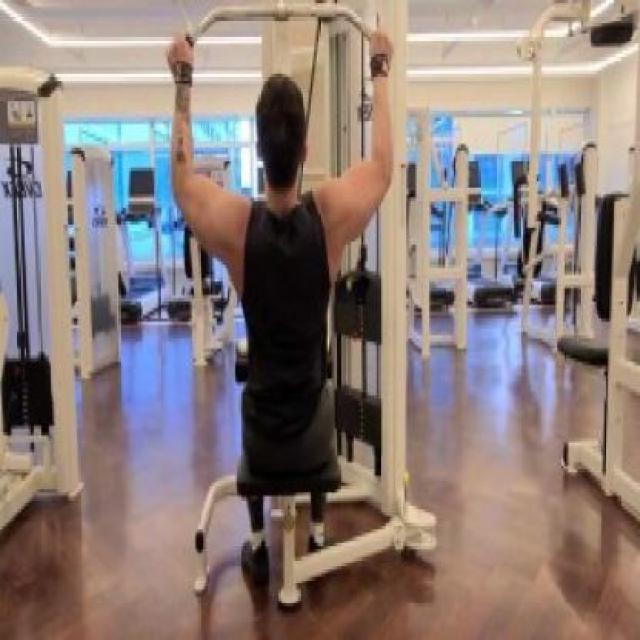Lat Pull Down: (153, 0, 455, 615)
